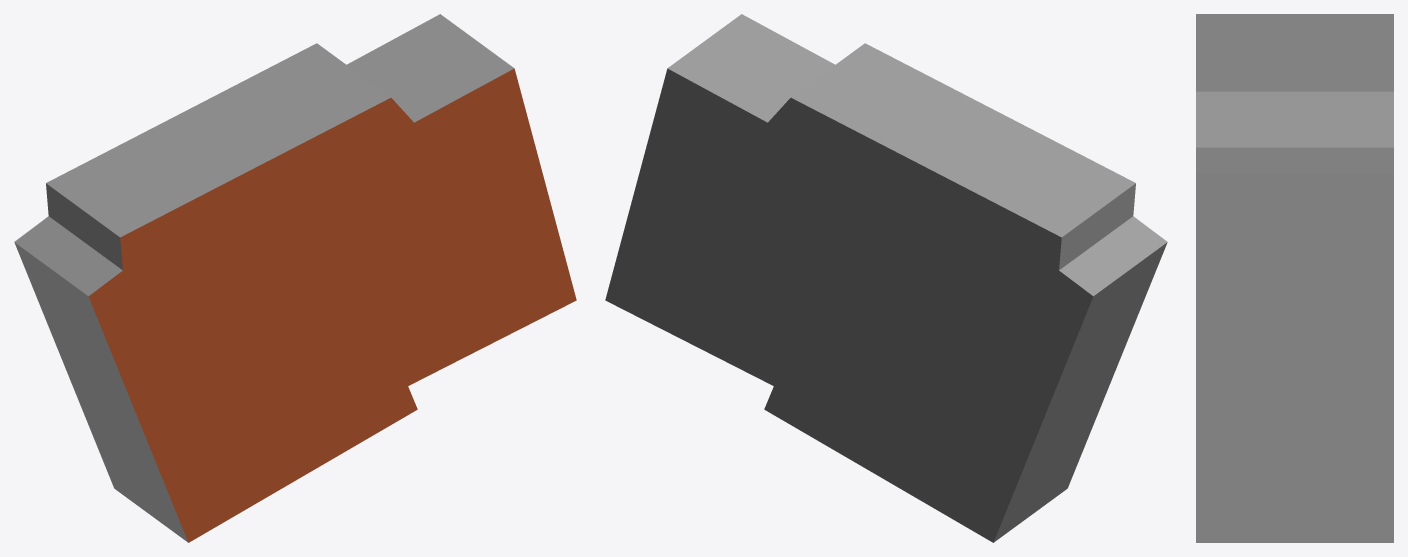
File: construction_2978_assumed_A_Casa_h6m.obj
3 views of the same model, side by side, from view 1: azimuth 30°, elevation 25°; view 2: azimuth 150°, elevation 25°; view 3: azimuth 270°, elevation 25° (orthographic). The views are drawn at different scales.
Visible parts, largest first — view 1: construction_2978_assumed_A_Casa; view 2: construction_2978_assumed_A_Casa; view 3: construction_2978_assumed_A_Casa.
Part boxes in pixels (x1=…): construction_2978_assumed_A_Casa: x1=14, y1=14, x2=576, y2=542; construction_2978_assumed_A_Casa: x1=605, y1=14, x2=1167, y2=542; construction_2978_assumed_A_Casa: x1=1196, y1=14, x2=1393, y2=542.
Size of the model in its own units: 22.76 by 17.64 by 6.
